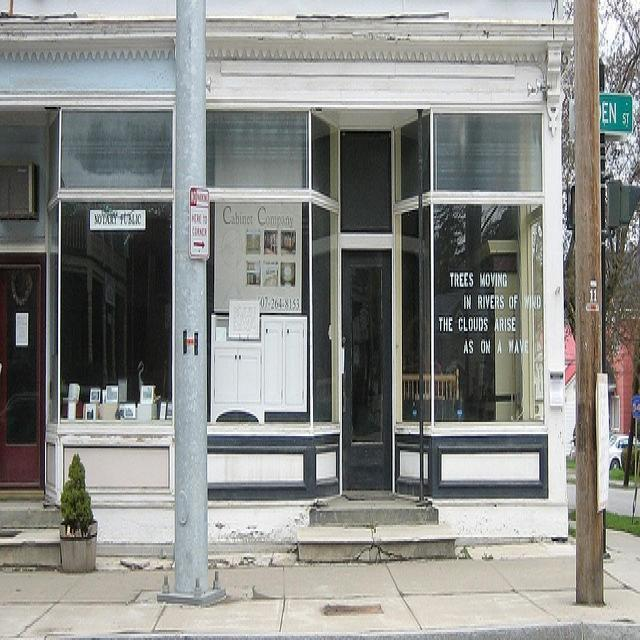car: (608, 430, 639, 466)
pole: (163, 2, 221, 596), (564, 2, 611, 604)
